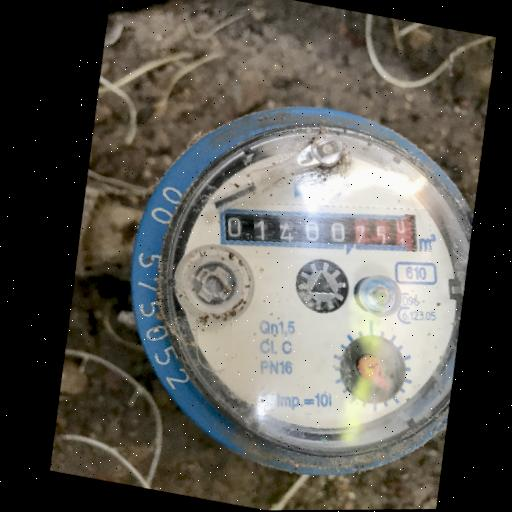0: (219, 209, 252, 245), (296, 212, 328, 247), (324, 215, 352, 247), (390, 216, 415, 249)
1: (246, 212, 274, 245)
4: (270, 211, 301, 247)
5: (368, 215, 393, 248)
7: (348, 215, 372, 247)
border_water_meter_number: (211, 178, 427, 283)
